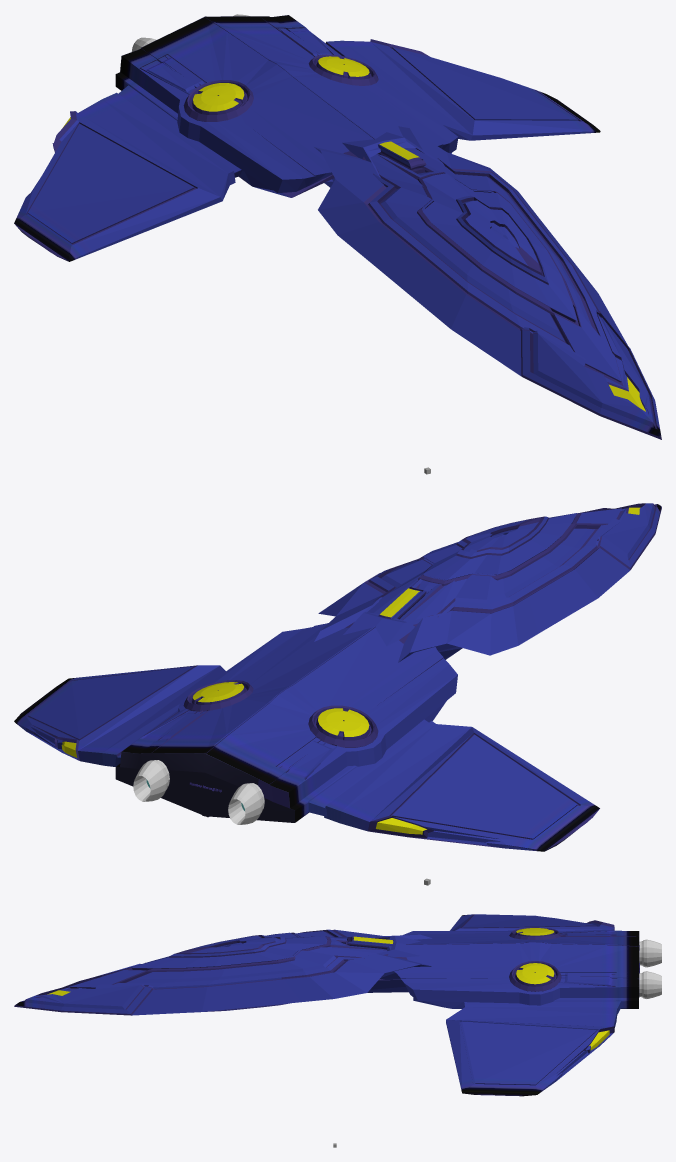
3 renders of one model, top to bottom at view 1: azimuth 30°, elevation 25°; view 2: azimuth 150°, elevation 25°; view 3: azimuth 270°, elevation 25°, orthographic. The views are drawn at different scales.
Visible parts, largest first — view 1: mesh01, justice__1; view 2: mesh01, justice__1, justice_usemtl_1; view 3: mesh01, justice__1, justice_usemtl_1.
Boxes of the visible parts, left/top/right/bottom form: mesh01: left=14, top=15, right=661, bottom=439; justice__1: left=63, top=56, right=645, bottom=411; mesh01: left=14, top=503, right=661, bottom=851; justice__1: left=61, top=507, right=640, bottom=834; justice_usemtl_1: left=133, top=760, right=264, bottom=824; mesh01: left=14, top=914, right=639, bottom=1096; justice__1: left=47, top=928, right=609, bottom=1050; justice_usemtl_1: left=639, top=939, right=661, bottom=998.
Size of the model in its own units: 256 by 139 by 391.
